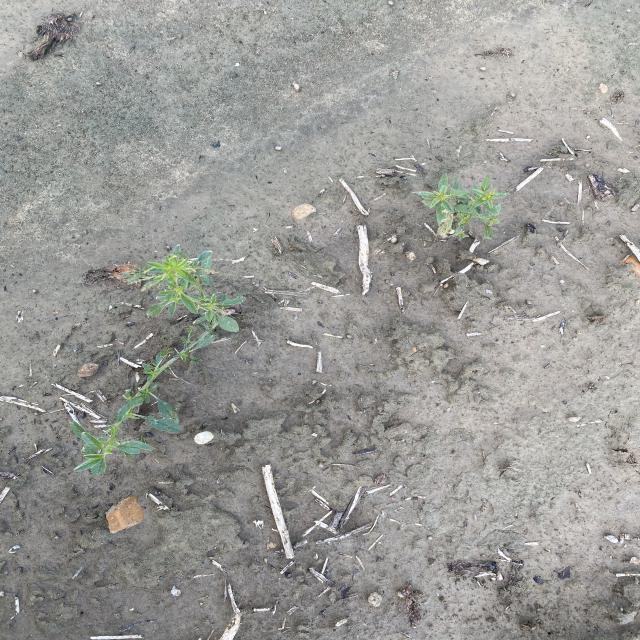Waterhemp: (71, 243, 248, 477), (411, 172, 513, 241)
